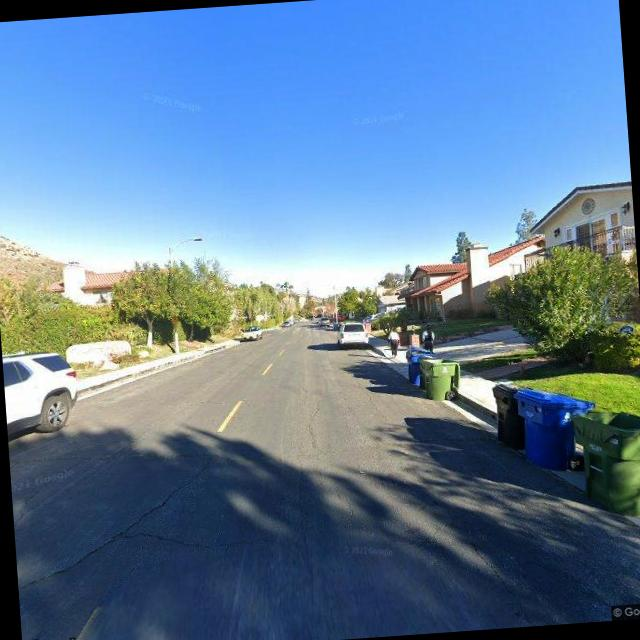crack: (10, 453, 218, 590), (102, 510, 320, 560), (9, 442, 237, 477), (460, 524, 528, 618), (290, 448, 310, 516)
